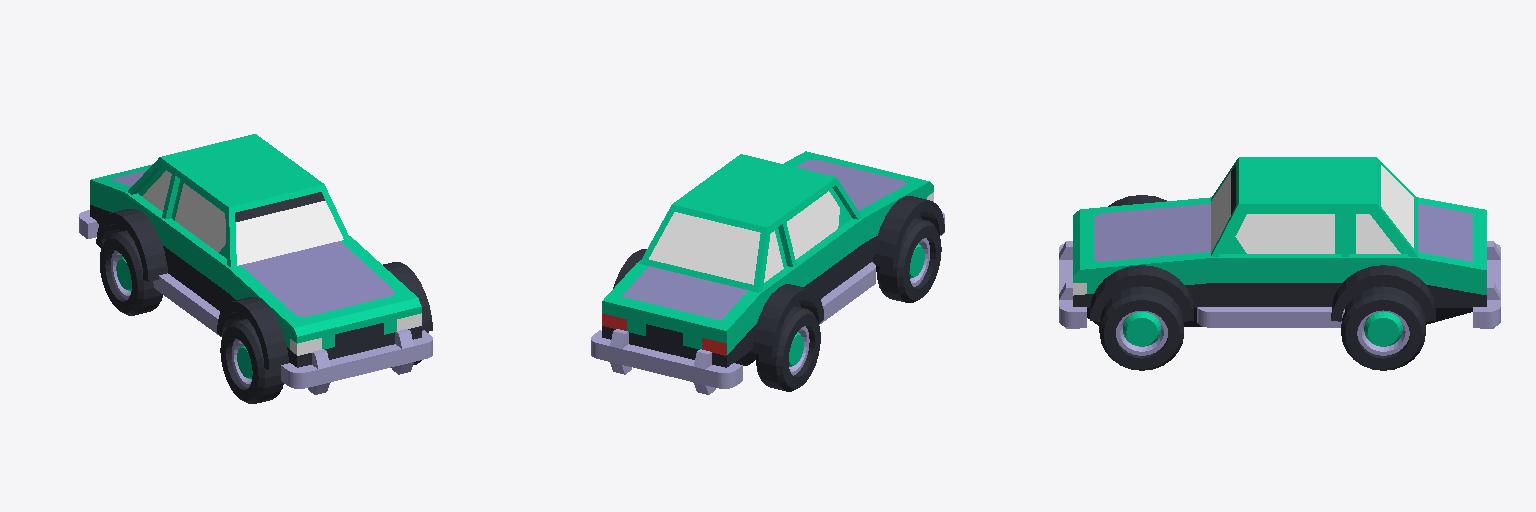
The model's file is Car2.obj.
The picture shows the model from 3 angles: view 1: azimuth 30°, elevation 25°; view 2: azimuth 150°, elevation 25°; view 3: azimuth 270°, elevation 25°; orthographic projection.
Visible parts, largest first — view 1: mergedBlocks; view 2: mergedBlocks; view 3: mergedBlocks.
Part boxes in pixels (x1,y1,x2,y2): mergedBlocks: (79, 134, 432, 403); mergedBlocks: (591, 151, 944, 394); mergedBlocks: (1059, 157, 1500, 370).
Bounding box in the file's own units: 1.43 × 1.2 × 3.2.